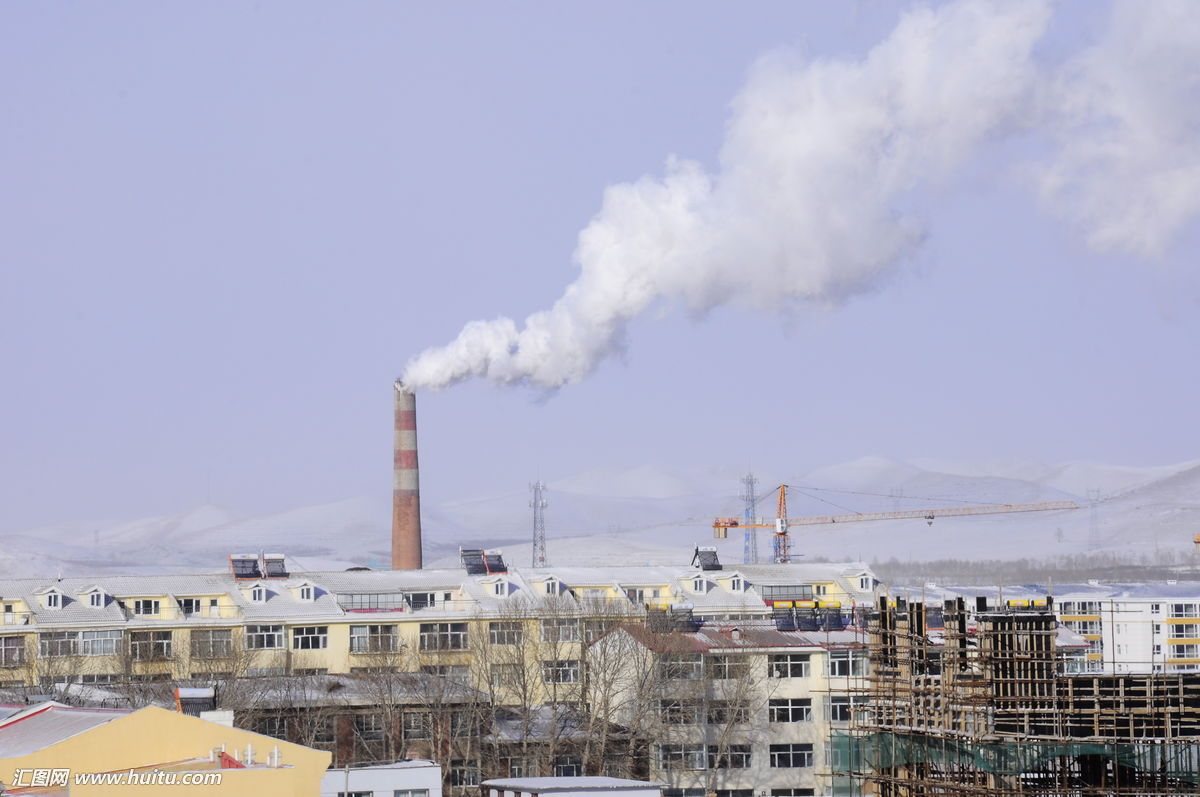dust: (393, 315, 623, 404)
